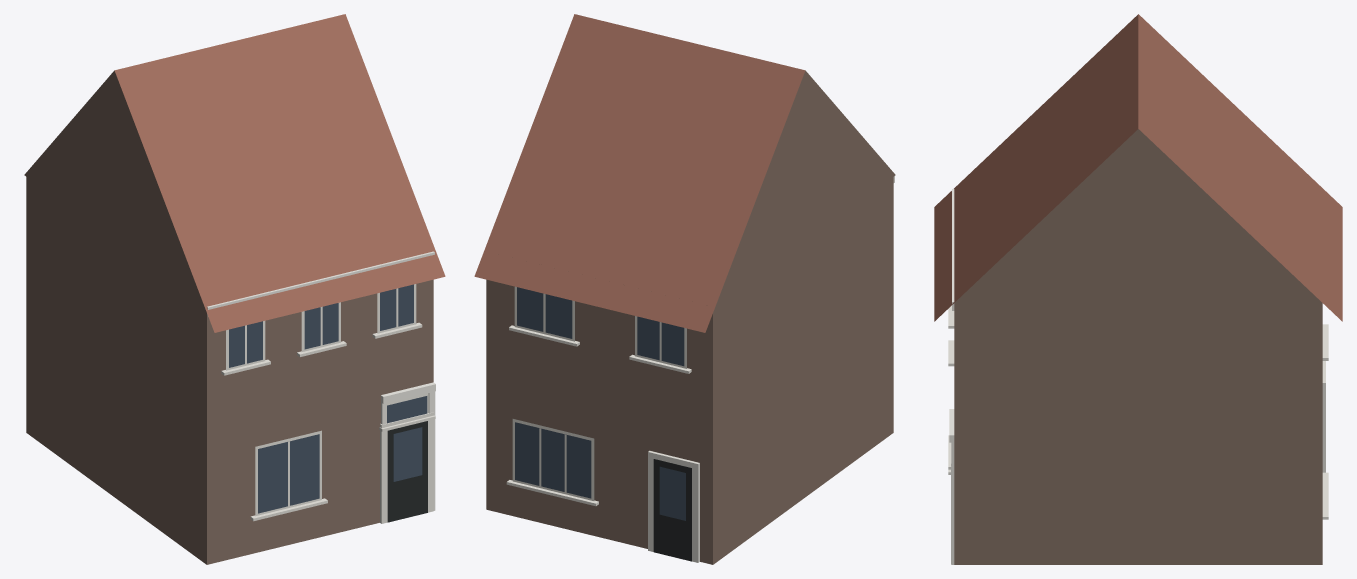
Rendered from nn-row-small__small-grey__2__gable__long__solid__mid__mirror.glb.
3 renders of one model, left to right at view 1: azimuth 30°, elevation 25°; view 2: azimuth 150°, elevation 25°; view 3: azimuth 270°, elevation 25°, orthographic.
Parts seen in each view (by area): view 1: nn-row-small__small-grey__2__gable__long__solid__mid__mirror; view 2: nn-row-small__small-grey__2__gable__long__solid__mid__mirror; view 3: nn-row-small__small-grey__2__gable__long__solid__mid__mirror.
Part boxes in pixels (x1,y1,x2,y2): nn-row-small__small-grey__2__gable__long__solid__mid__mirror: (24,14,445,564); nn-row-small__small-grey__2__gable__long__solid__mid__mirror: (474,14,895,564); nn-row-small__small-grey__2__gable__long__solid__mid__mirror: (934,14,1342,564).
Bounding box in the file's own units: 5.43 × 9.64 × 8.15.
